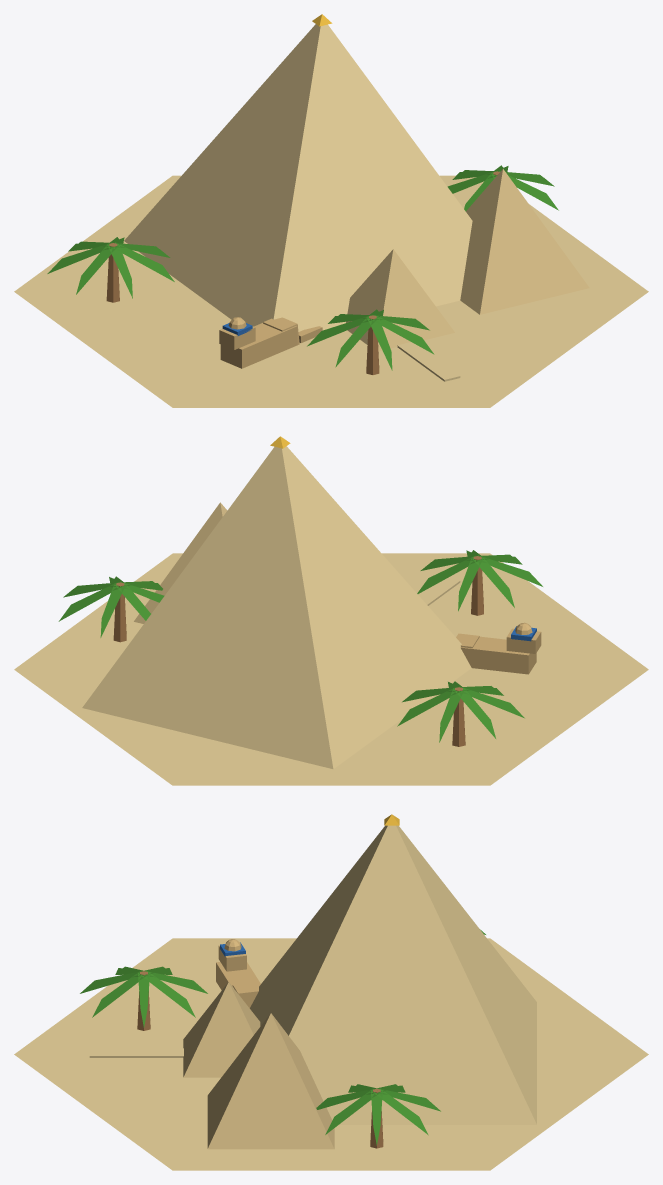
File: wonder_pyramids.fbx
The picture shows the model from 3 angles, top to bottom: view 1: azimuth 30°, elevation 25°; view 2: azimuth 150°, elevation 25°; view 3: azimuth 270°, elevation 25°; orthographic projection.
Visible parts, largest first — view 1: wonder_pyramids; view 2: wonder_pyramids; view 3: wonder_pyramids.
Part boxes in pixels (left/top/right/bottom): wonder_pyramids: left=14, top=14, right=648, bottom=407; wonder_pyramids: left=14, top=436, right=648, bottom=785; wonder_pyramids: left=14, top=814, right=648, bottom=1170.
Size of the model in its own units: 185 by 91.4 by 210.
